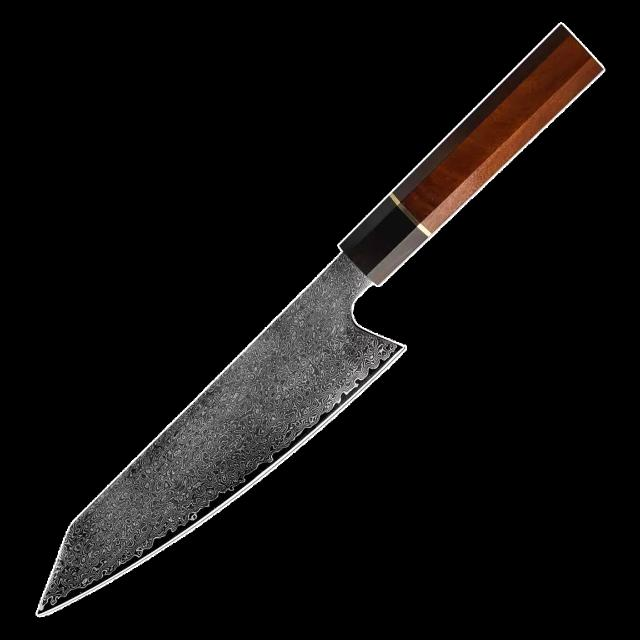Knife: (36, 23, 602, 616)
